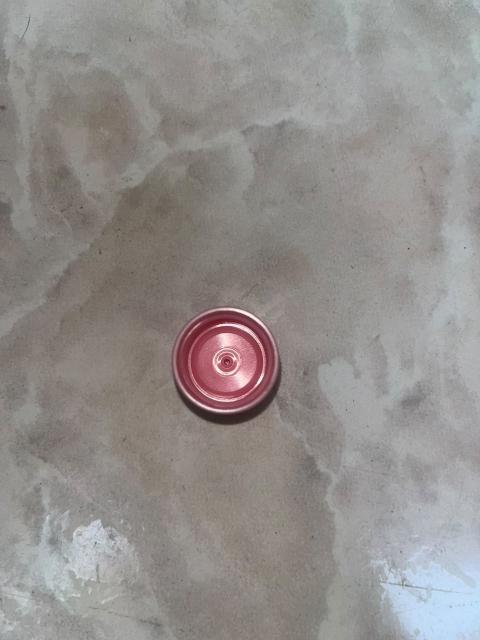HDPE: (152, 287, 308, 440)
